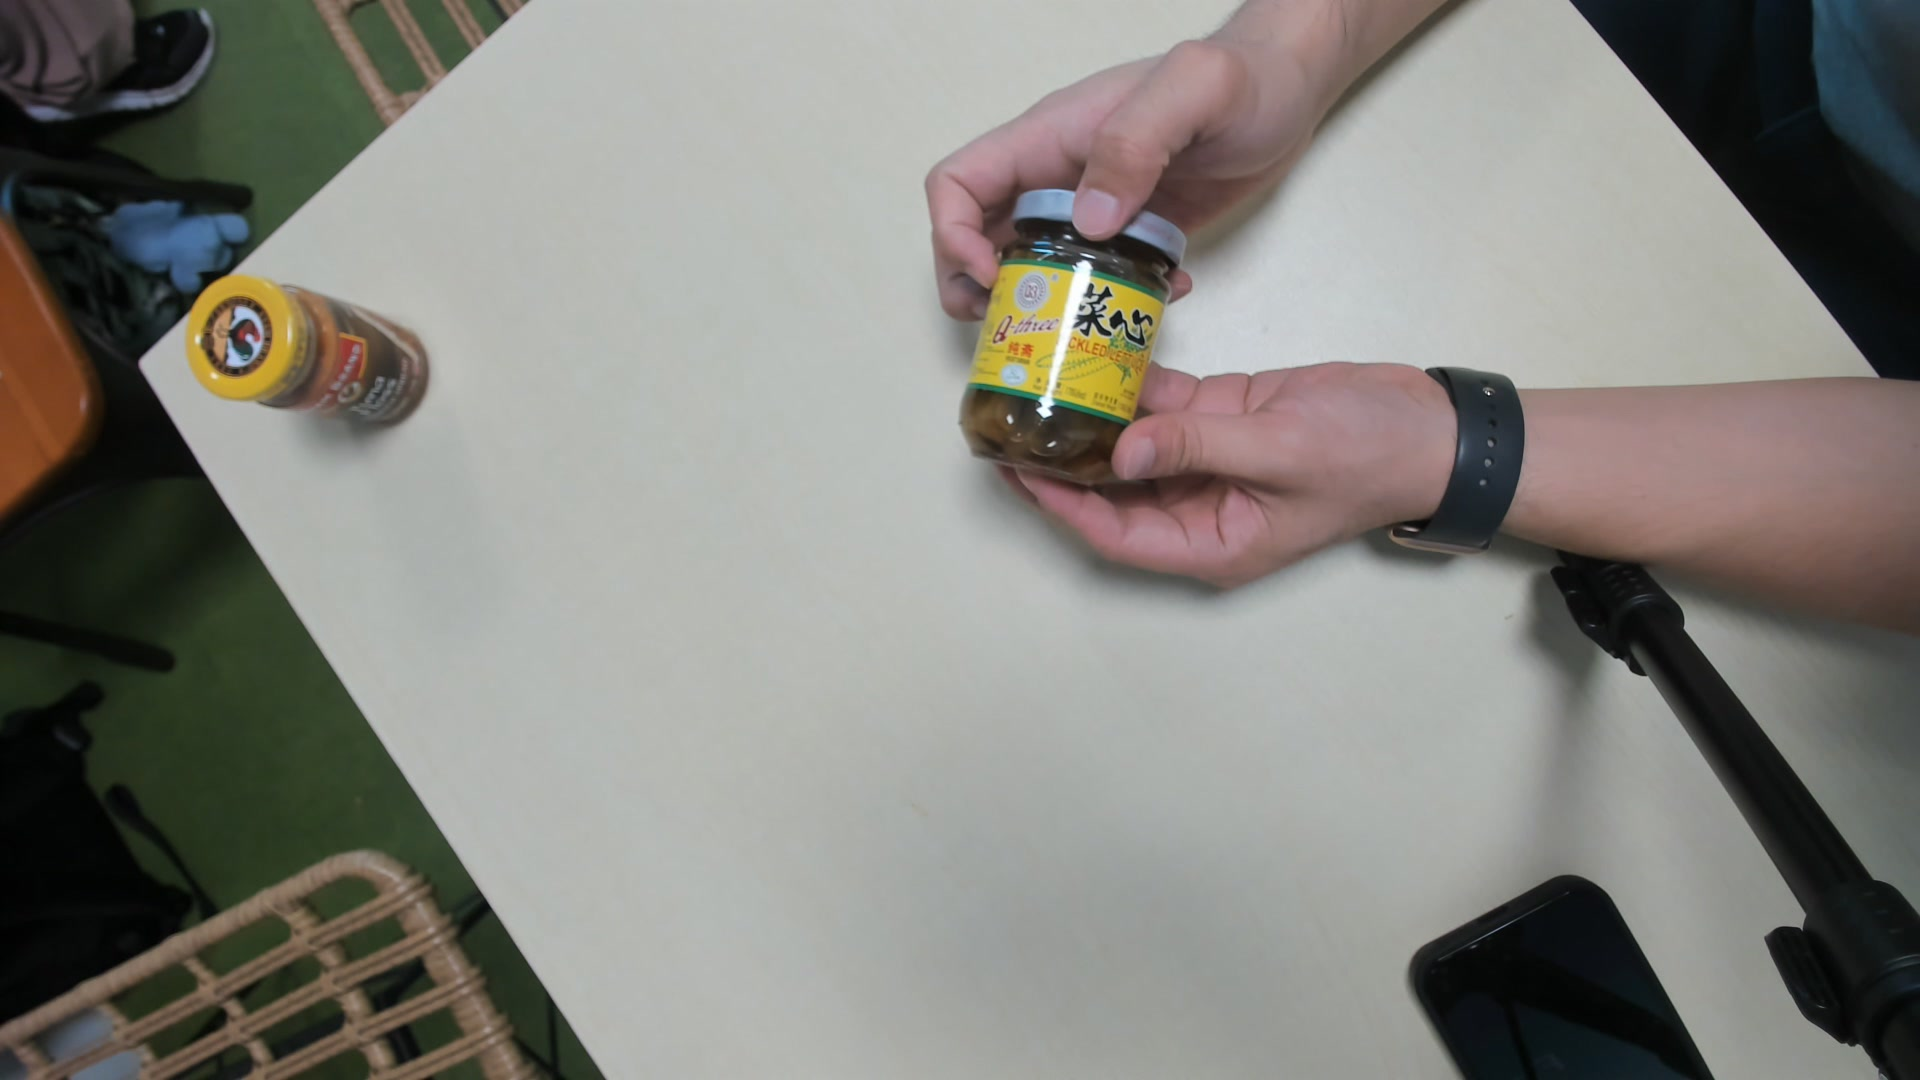OtherSauceDressing_200-299g_Halal_NonHealthy: (959, 183, 1183, 483)
